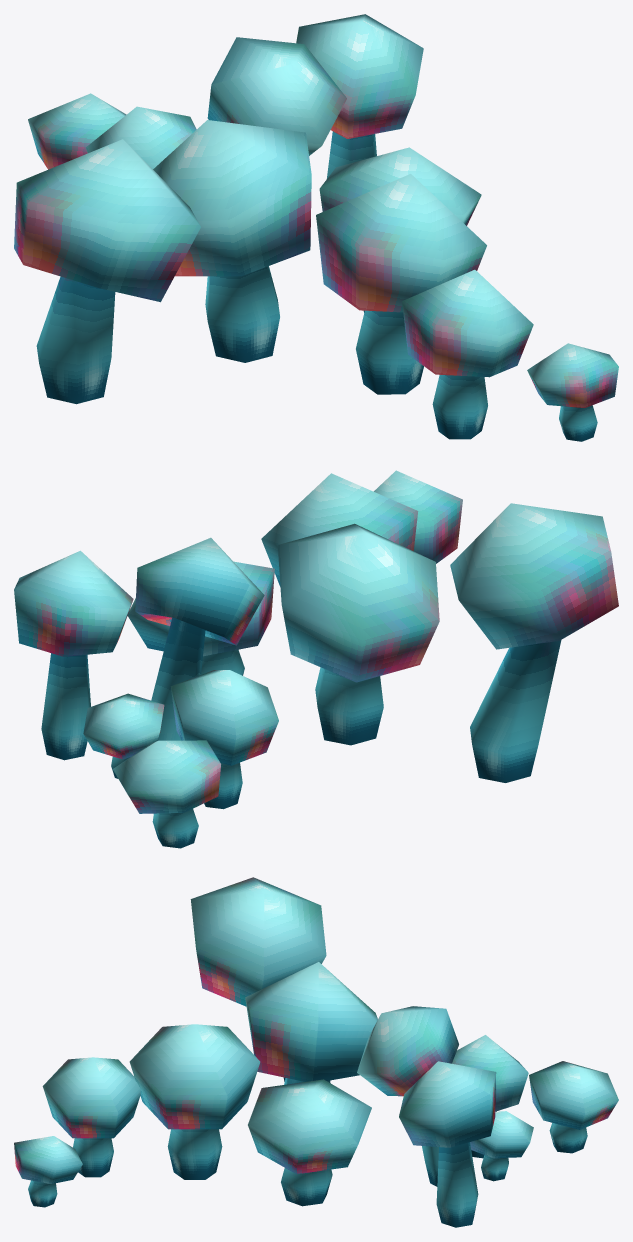
Rendered from n_SWFgomush05.glb.
3 views of the same model, one above another, from view 1: azimuth 30°, elevation 25°; view 2: azimuth 150°, elevation 25°; view 3: azimuth 270°, elevation 25° (orthographic). The views are drawn at different scales.
Visible parts, largest first — view 1: n_SWFgomush05; view 2: n_SWFgomush05; view 3: n_SWFgomush05.
Boxes of the visible parts, x1,y1,x2,y2 form: n_SWFgomush05: [14, 14, 618, 441]; n_SWFgomush05: [14, 470, 618, 848]; n_SWFgomush05: [14, 877, 618, 1227].
Size of the model in its own units: 1.51 by 0.7335 by 1.99.
Materials: 1 (1 with a texture image).
